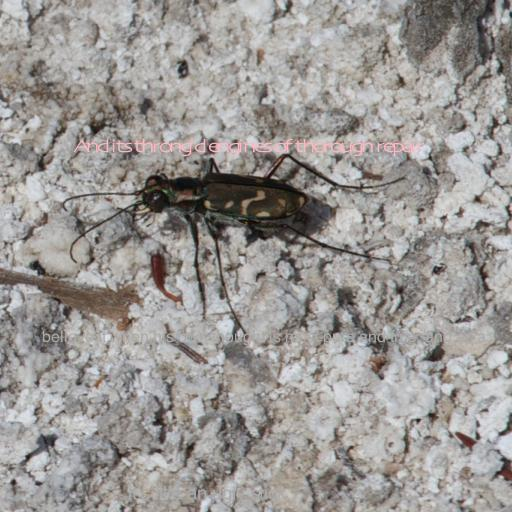Apple Chancery: (42, 330, 486, 346), (126, 485, 286, 504)
Skia: (73, 138, 423, 157)
